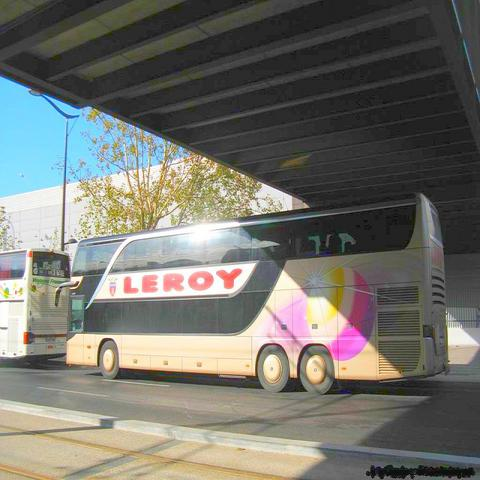bus: (49, 190, 452, 399), (1, 253, 71, 365)
